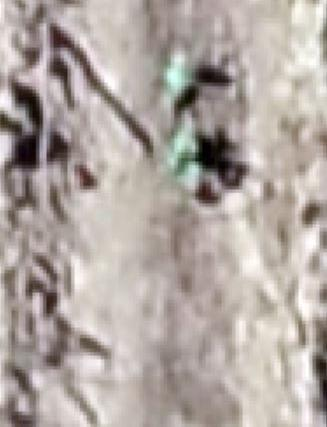cotton: (174, 132, 196, 157), (165, 67, 192, 87), (171, 161, 198, 178)
